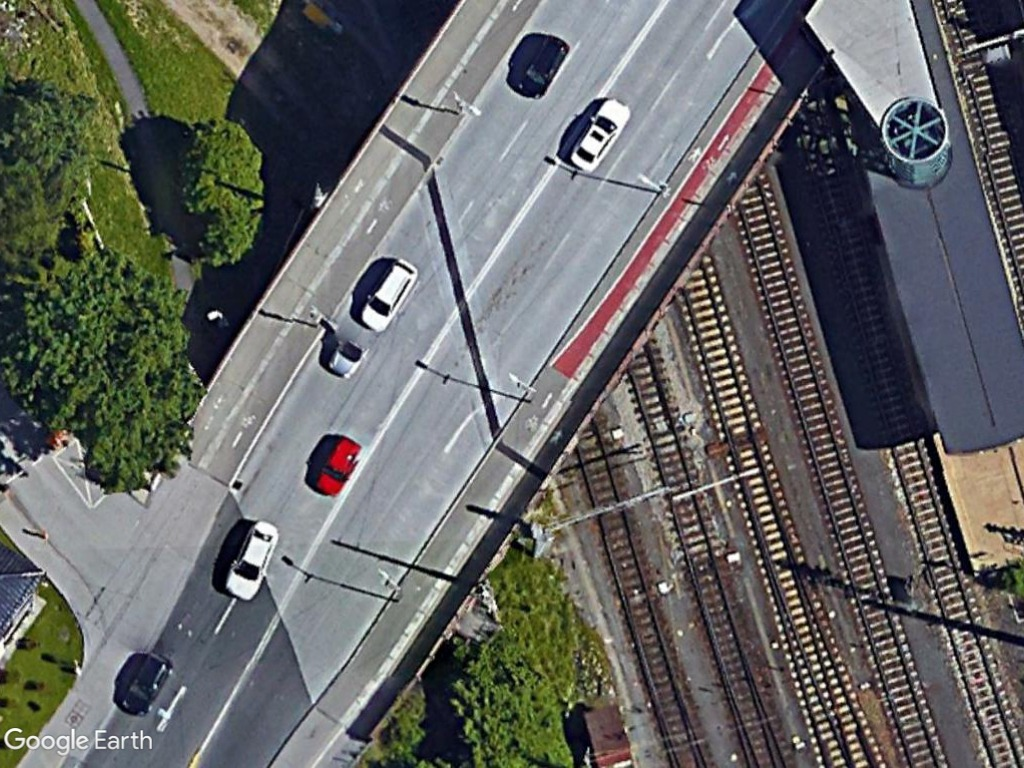car: (564, 86, 642, 172), (351, 249, 419, 339), (218, 511, 280, 605), (111, 641, 174, 721), (510, 27, 572, 101), (307, 430, 365, 501)
